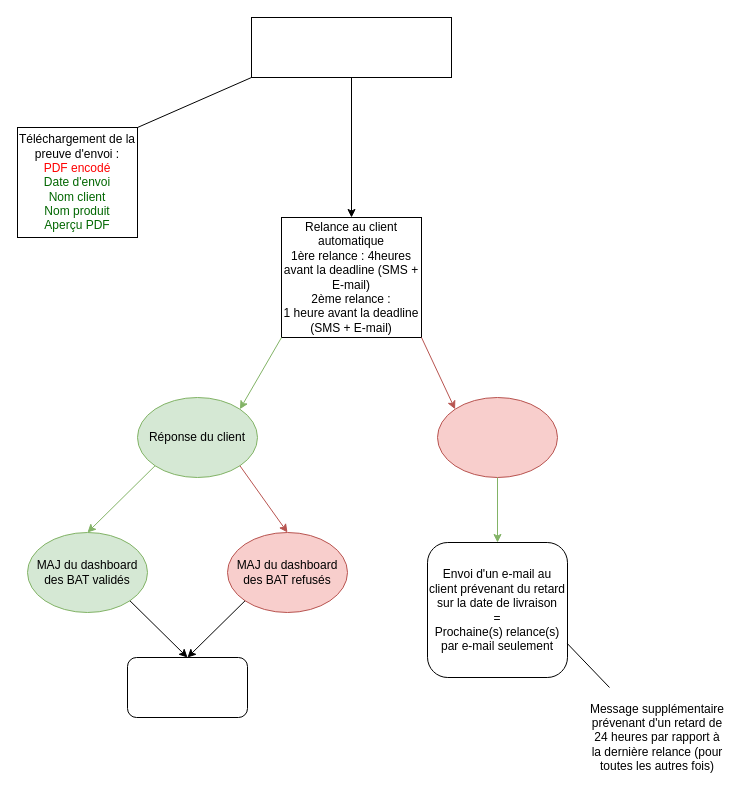
Image size: 745x805. Some labels were removed from this diagram. Each missing label, with the box of its shape:
Alerte par e-mail au graphiste: (126, 656, 248, 718)
Dashboard BAT en attente: (250, 16, 452, 78)
Pas de réponse du client: (436, 396, 558, 478)
